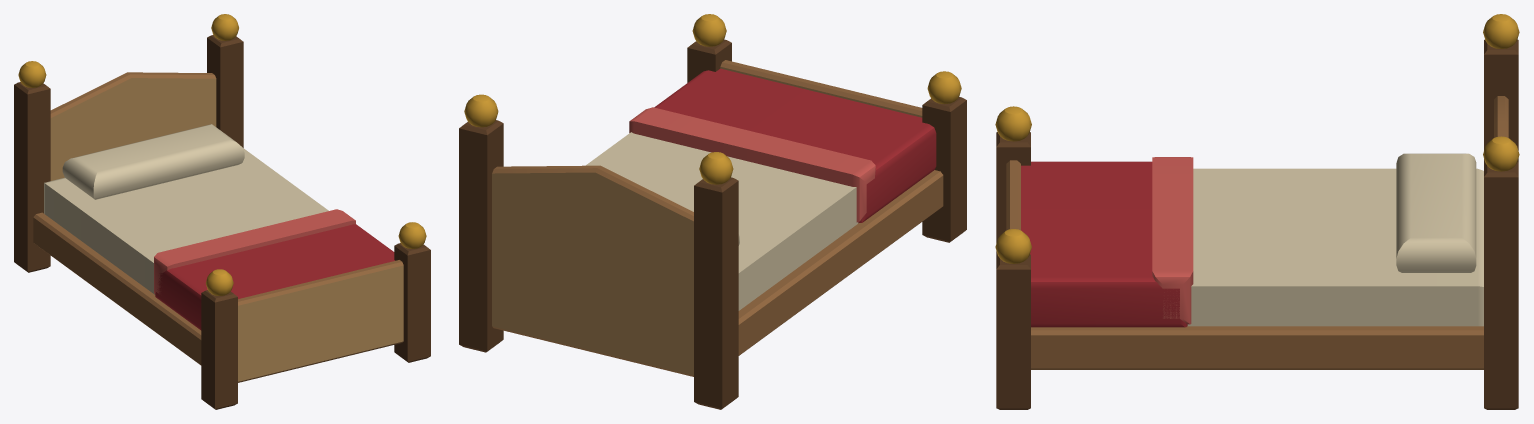
The model's file is Bed_03.glb.
3 renders of one model, left to right at view 1: azimuth 30°, elevation 25°; view 2: azimuth 150°, elevation 25°; view 3: azimuth 270°, elevation 25°, orthographic. The views are drawn at different scales.
Visible parts, largest first — view 1: Bed_03; view 2: Bed_03; view 3: Bed_03.
Boxes of the visible parts, x1=… form: Bed_03: x1=14, y1=14, x2=430, y2=409; Bed_03: x1=459, y1=14, x2=966, y2=409; Bed_03: x1=995, y1=14, x2=1519, y2=409.
Size of the model in its own units: 4.48 by 4.03 by 7.2.
